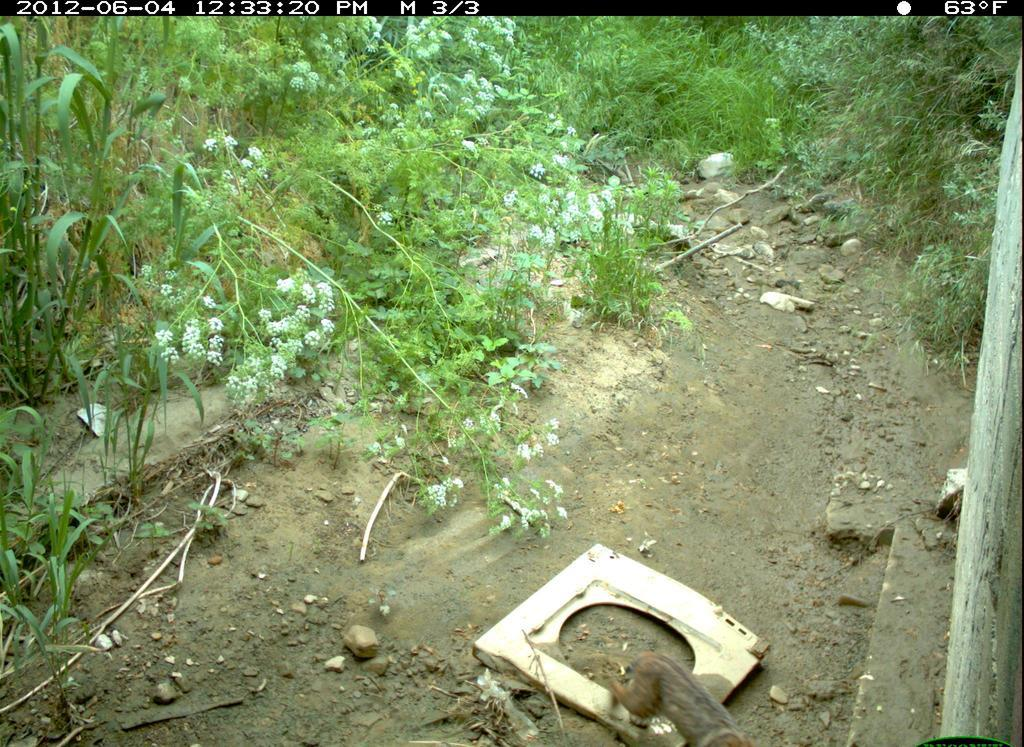bobcat: (602, 629, 772, 745)
